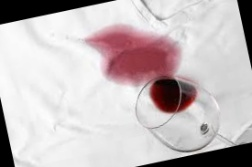wine: (87, 19, 184, 92)
